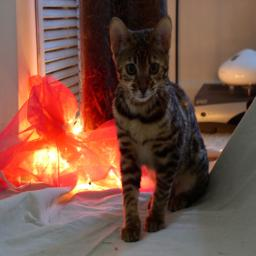catnose: (136, 76, 150, 94)
